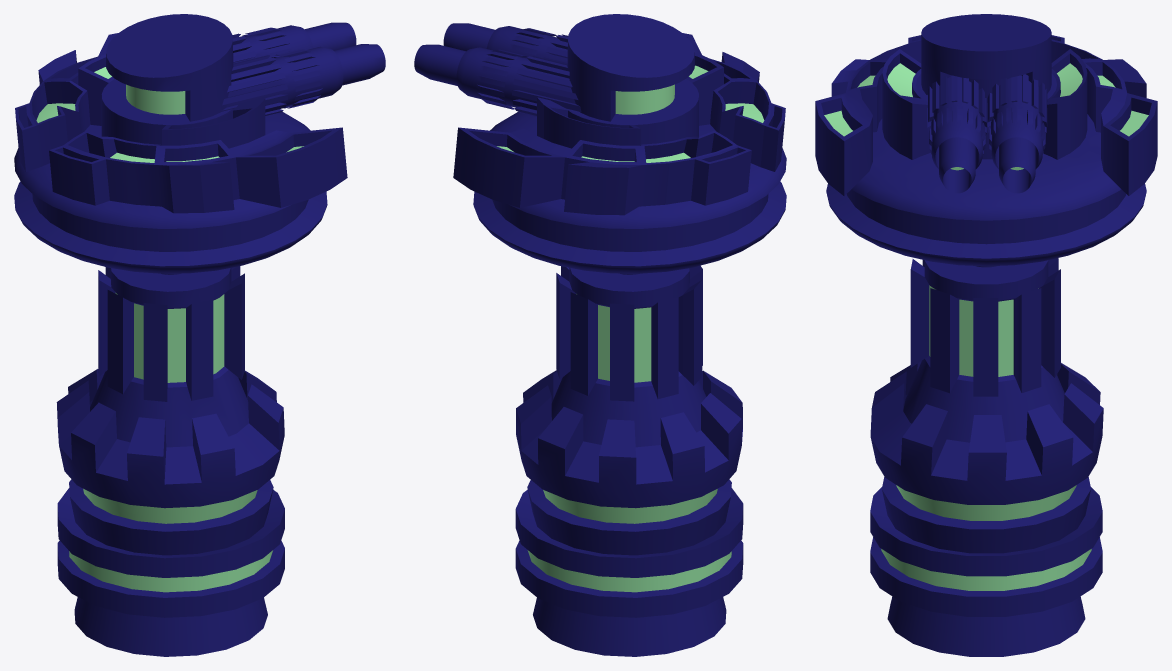
File: FastPlasmaTower.fbx
3 views of the same model, side by side, from view 1: azimuth 30°, elevation 25°; view 2: azimuth 150°, elevation 25°; view 3: azimuth 270°, elevation 25° (orthographic). The views are drawn at different scales.
Parts seen in each view (by area): view 1: Base_Cylinder, Cannon_Base_Cylinder.001, Cylinder2_Cylinder.004, Cannon1_Cylinder.003; view 2: Base_Cylinder, Cannon_Base_Cylinder.001, Cannon1_Cylinder.003, Cylinder2_Cylinder.004; view 3: Base_Cylinder, Cannon_Base_Cylinder.001, Cannon1_Cylinder.003, Cylinder2_Cylinder.004.
Part boxes in pixels (x1,y1,x2,y2): Base_Cylinder: (56, 266, 284, 656); Cannon_Base_Cylinder.001: (14, 14, 347, 273); Cylinder2_Cylinder.004: (221, 44, 385, 115); Cannon1_Cylinder.003: (232, 22, 356, 63); Base_Cylinder: (515, 265, 743, 656); Cannon_Base_Cylinder.001: (453, 14, 786, 273); Cannon1_Cylinder.003: (414, 44, 581, 116); Cylinder2_Cylinder.004: (443, 23, 568, 64); Base_Cylinder: (870, 258, 1103, 656); Cannon_Base_Cylinder.001: (815, 14, 1157, 266); Cannon1_Cylinder.003: (987, 74, 1047, 193); Cylinder2_Cylinder.004: (927, 75, 987, 193).
Bounding box in the file's own units: 391 × 656 × 345.
